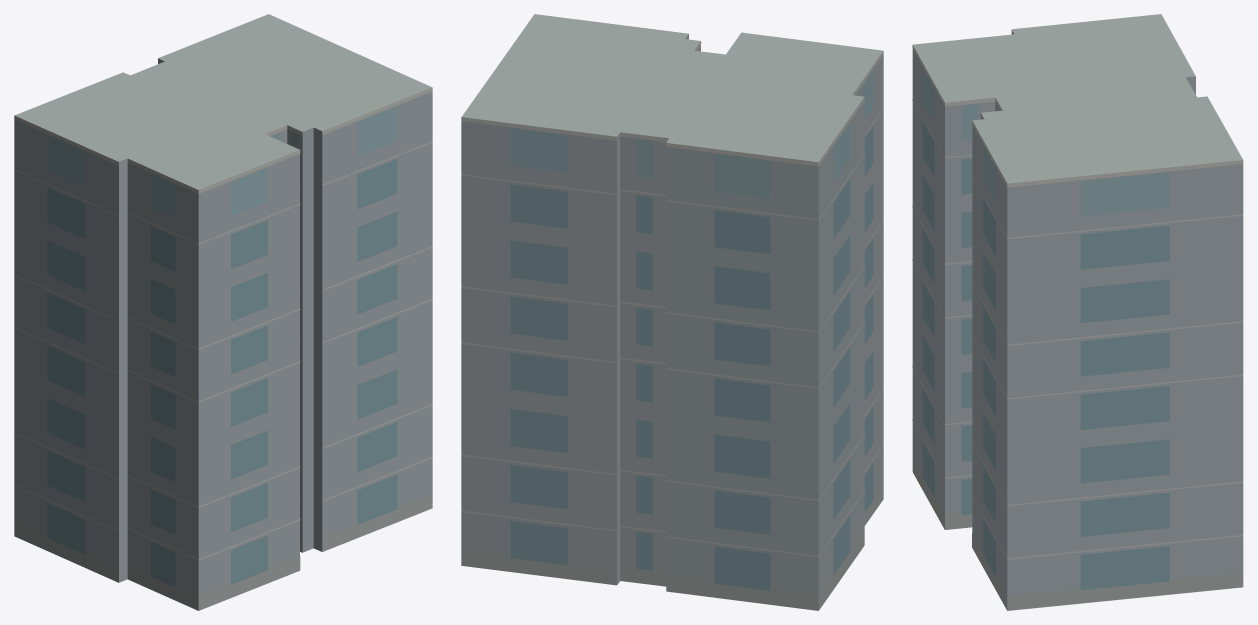
The model's file is survey-upis-33036987.glb.
3 renders of one model, left to right at view 1: azimuth 30°, elevation 25°; view 2: azimuth 150°, elevation 25°; view 3: azimuth 270°, elevation 25°, orthographic. The views are drawn at different scales.
Visible parts, largest first — view 1: survey-upis-33036987.tmp; view 2: survey-upis-33036987.tmp; view 3: survey-upis-33036987.tmp.
Boxes of the visible parts, x1,y1,x2,y2 form: survey-upis-33036987.tmp: (14,14,432,610); survey-upis-33036987.tmp: (461,14,883,610); survey-upis-33036987.tmp: (912,14,1243,610).
Bounding box in the file's own units: 22.25 × 26.1 × 18.34.
